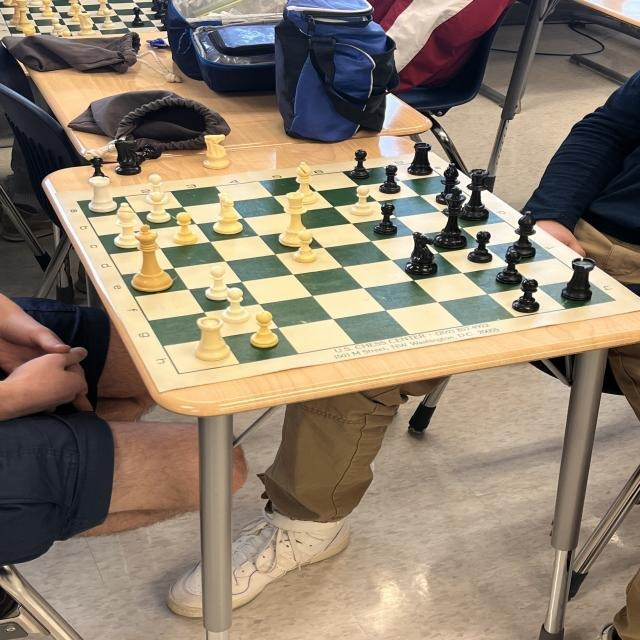black-bishop: (506, 210, 537, 257), (436, 162, 464, 205)
black-king: (432, 188, 467, 249)
black-knight: (404, 232, 438, 276), (114, 140, 142, 176)
black-pawn: (496, 251, 524, 285), (512, 279, 540, 313), (467, 230, 493, 264), (374, 203, 398, 235), (378, 165, 402, 195), (349, 148, 371, 179), (88, 155, 111, 184), (134, 143, 162, 165), (132, 7, 144, 25)
black-queen: (458, 168, 490, 221)
black-rook: (561, 257, 597, 301), (407, 142, 433, 176)
white-bishop: (114, 202, 142, 249), (290, 162, 317, 204)
white-king: (131, 224, 173, 292), (16, 0, 36, 31)
white-knight: (213, 192, 243, 234), (203, 134, 230, 170), (78, 12, 95, 35)
white-pawn: (249, 311, 279, 348), (222, 288, 250, 324), (206, 265, 234, 301), (293, 229, 319, 263), (173, 211, 198, 245), (146, 192, 171, 224), (350, 184, 374, 216), (146, 174, 170, 204), (101, 9, 115, 28), (50, 17, 63, 36), (72, 2, 84, 21), (41, 0, 55, 16), (54, 23, 63, 37)
white-queen: (279, 192, 313, 247)
white-rook: (194, 315, 230, 361), (88, 176, 117, 212)
